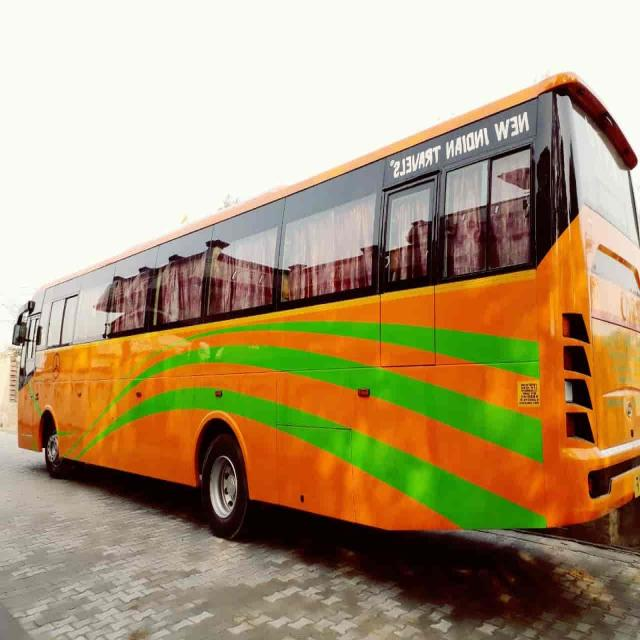bus: (14, 73, 640, 535)
